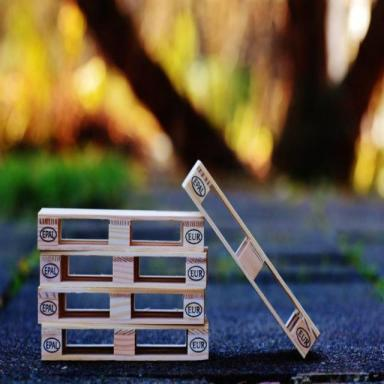pallet: (181, 159, 320, 359), (41, 313, 209, 361), (37, 207, 204, 253), (40, 246, 208, 288), (38, 287, 204, 324), (254, 261, 296, 325), (130, 221, 181, 244), (61, 219, 110, 239), (139, 257, 187, 276), (134, 293, 184, 311), (68, 256, 113, 275), (136, 329, 186, 346), (66, 329, 114, 346), (65, 293, 110, 311)
